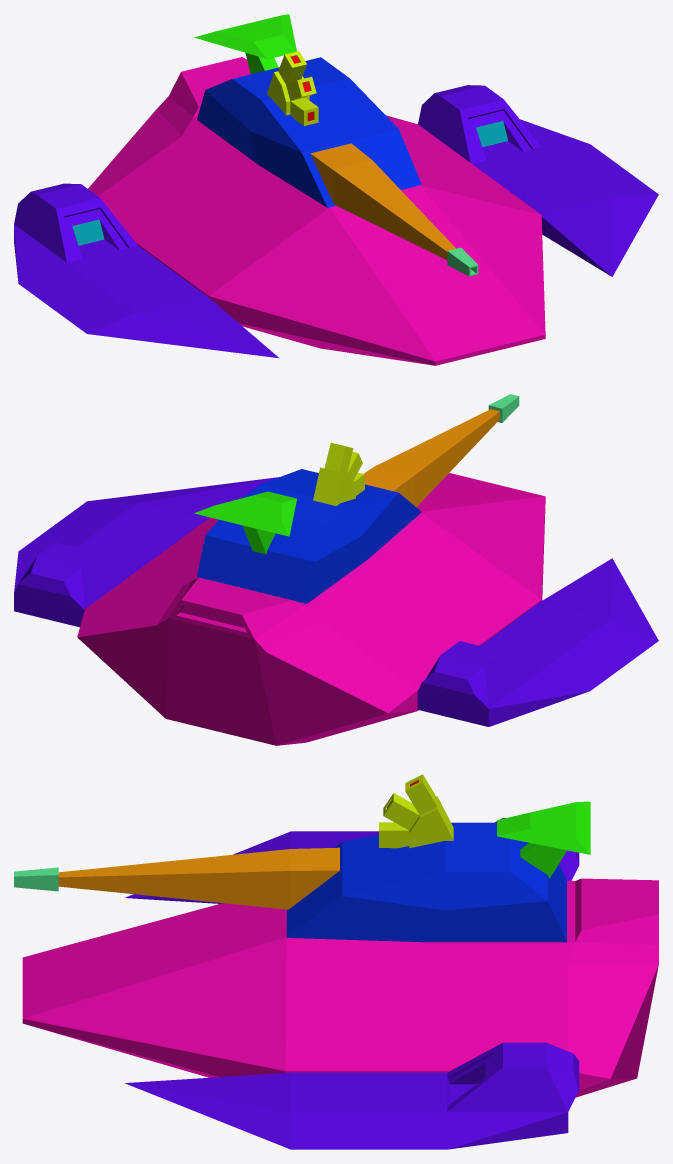
Rendered from czar.fbx.
3 renders of one model, top to bottom at view 1: azimuth 30°, elevation 25°; view 2: azimuth 150°, elevation 25°; view 3: azimuth 270°, elevation 25°, orthographic. The views are drawn at different scales.
Visible parts, largest first — view 1: Main Body.001, Right wing, Left wing, Turret, Gun, Tail wing, Ammo clip; view 2: Main Body.001, Right wing, Left wing, Turret, Gun, Tail wing, Ammo clip; view 3: Main Body.001, Left wing, Turret, Gun, Tail wing, Ammo clip, Right wing.
Boxes of the visible parts, x1,y1,x2,y2 form: Main Body.001: [88, 57, 545, 365]; Right wing: [14, 183, 279, 358]; Left wing: [418, 85, 658, 276]; Turret: [197, 57, 421, 207]; Gun: [310, 143, 478, 276]; Tail wing: [194, 14, 296, 74]; Ammo clip: [267, 51, 318, 125]; Main Body.001: [77, 473, 545, 745]; Right wing: [417, 558, 658, 726]; Left wing: [14, 477, 279, 627]; Turret: [197, 469, 421, 603]; Gun: [363, 394, 519, 507]; Tail wing: [194, 491, 296, 554]; Ammo clip: [313, 442, 364, 505]; Main Body.001: [22, 878, 658, 1097]; Left wing: [124, 1042, 579, 1149]; Turret: [286, 822, 566, 942]; Gun: [14, 847, 339, 909]; Tail wing: [497, 801, 590, 878]; Ammo clip: [379, 774, 453, 848]; Right wing: [125, 818, 579, 903].
Size of the model in its own units: 16.39 by 6.67 by 14.03.
